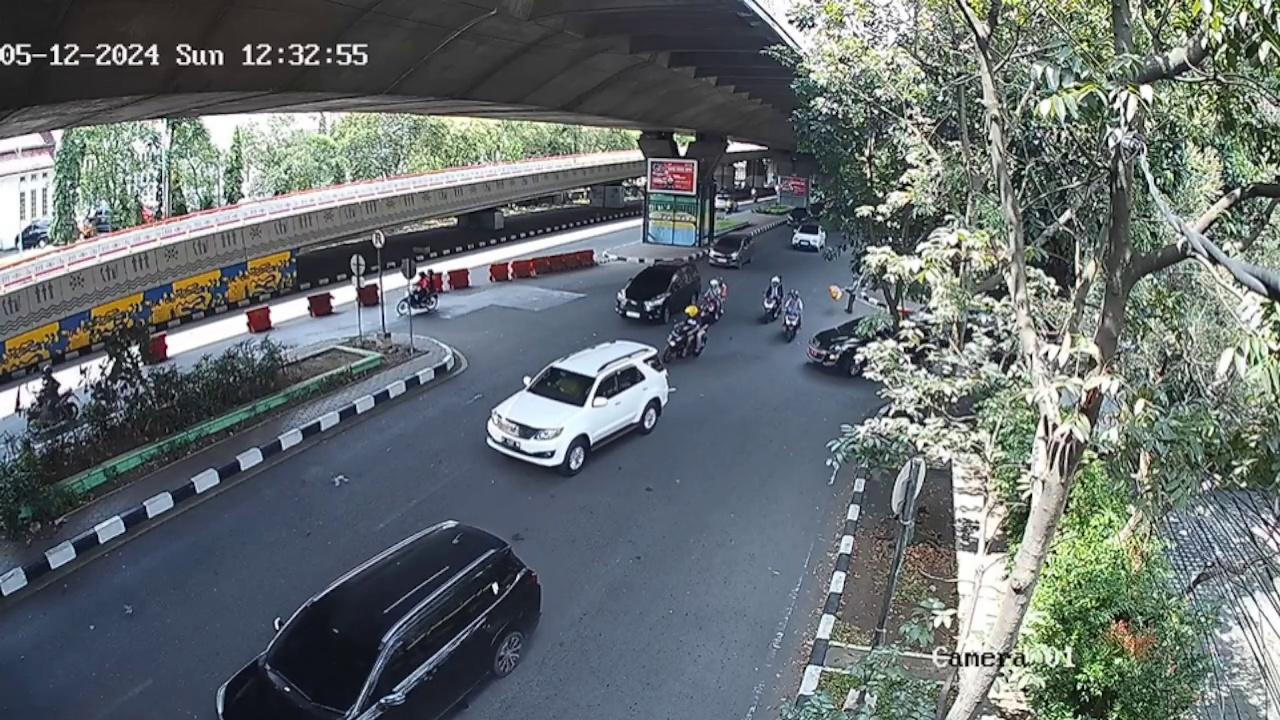tidak-pakai: (557, 374, 584, 398)
windshield: (526, 363, 596, 408)
